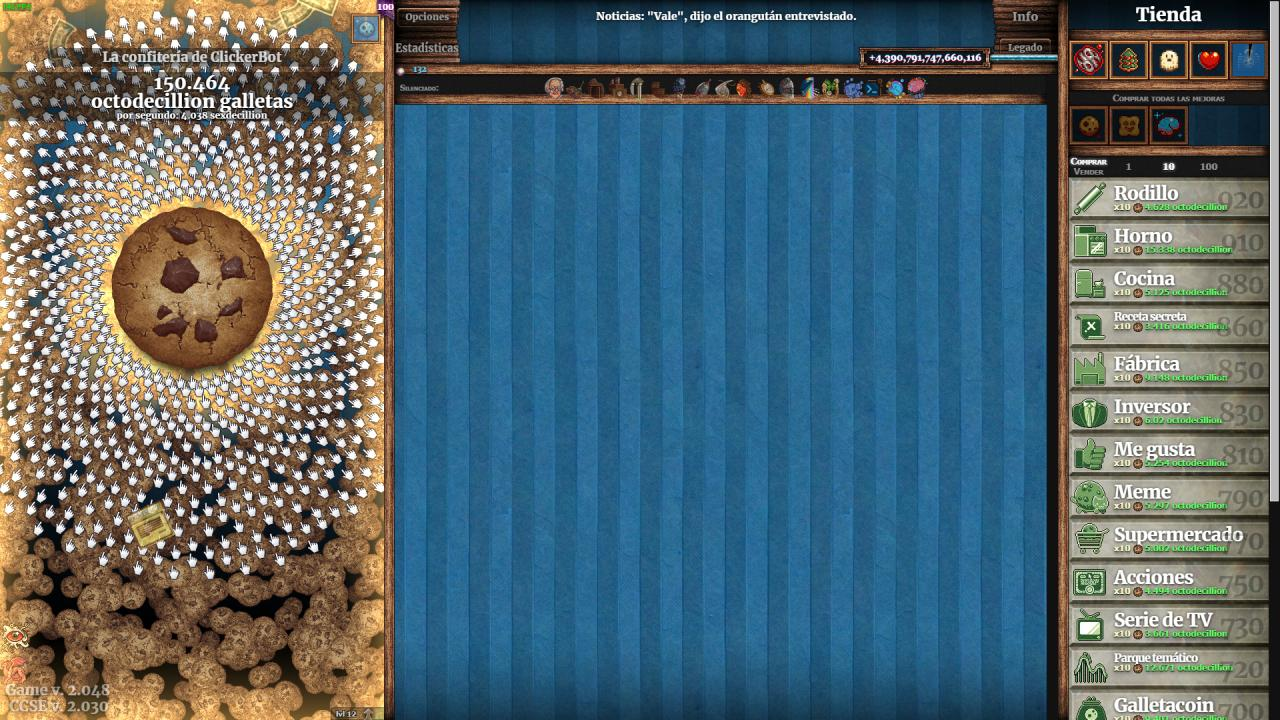GoldenCartridge: (125, 500, 176, 551)
